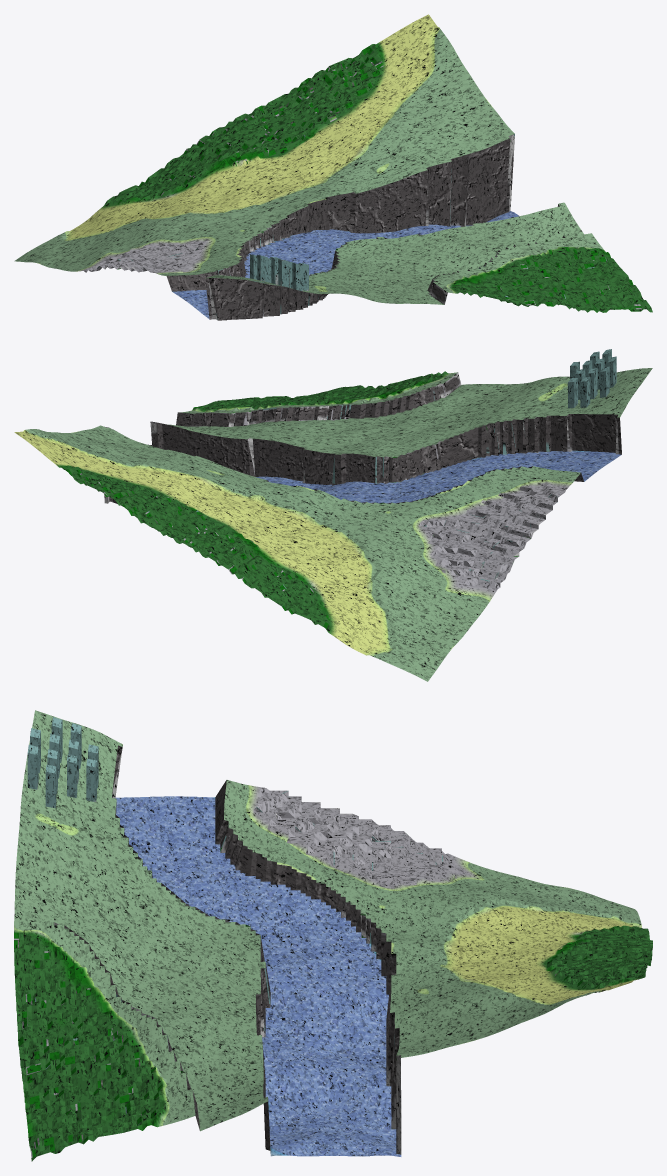
File: microcosm.gltf
3 views of the same model, one above another, from view 1: azimuth 30°, elevation 25°; view 2: azimuth 150°, elevation 25°; view 3: azimuth 270°, elevation 25° (orthographic). The views are drawn at different scales.
Visible parts, largest first — view 1: Terrain; view 2: Terrain; view 3: Terrain.
Part boxes in pixels (bbox=[...]): Terrain: bbox=[14, 14, 652, 320]; Terrain: bbox=[14, 349, 652, 681]; Terrain: bbox=[14, 710, 652, 1161].
Bounding box in the file's own units: 100 × 36.5 × 100.
1 material, 1 textured.
